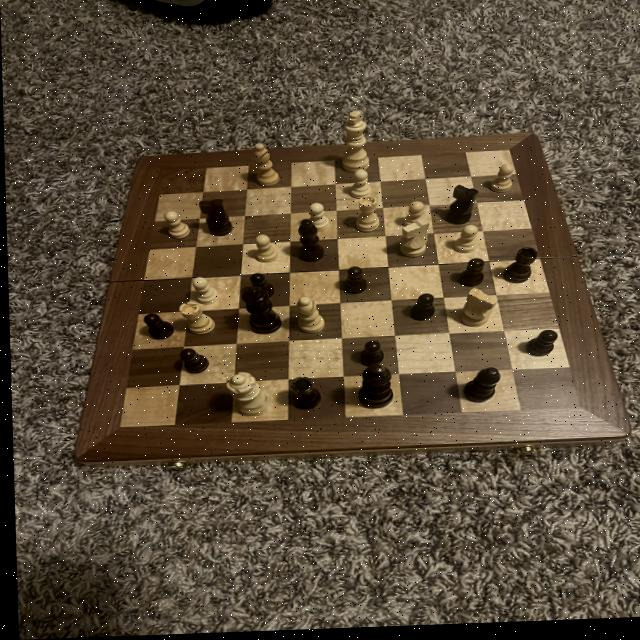bishop: (457, 369, 503, 410), (293, 218, 324, 270)
black-bishop: (346, 362, 394, 417)
black-king: (443, 185, 480, 230), (193, 198, 232, 240)
black-knight: (335, 265, 368, 303), (519, 331, 559, 362), (172, 346, 210, 378), (406, 293, 437, 329), (453, 261, 487, 292), (138, 313, 173, 342), (352, 340, 386, 369), (242, 274, 277, 301)
black-pawn: (234, 287, 285, 341)
black-queen: (497, 249, 538, 293), (282, 376, 321, 413)
black-rook: (245, 142, 285, 192), (288, 296, 326, 342)
white-bishop: (335, 113, 369, 176)
white-king: (454, 289, 499, 333), (393, 219, 430, 260)
white-knight: (156, 208, 195, 244), (447, 224, 481, 258), (299, 202, 332, 236), (481, 166, 514, 199), (249, 235, 281, 267), (186, 276, 218, 308), (342, 169, 372, 203), (398, 200, 428, 233)
white-pawn: (220, 372, 272, 421)
white-queen: (174, 300, 217, 340), (348, 195, 383, 237)
